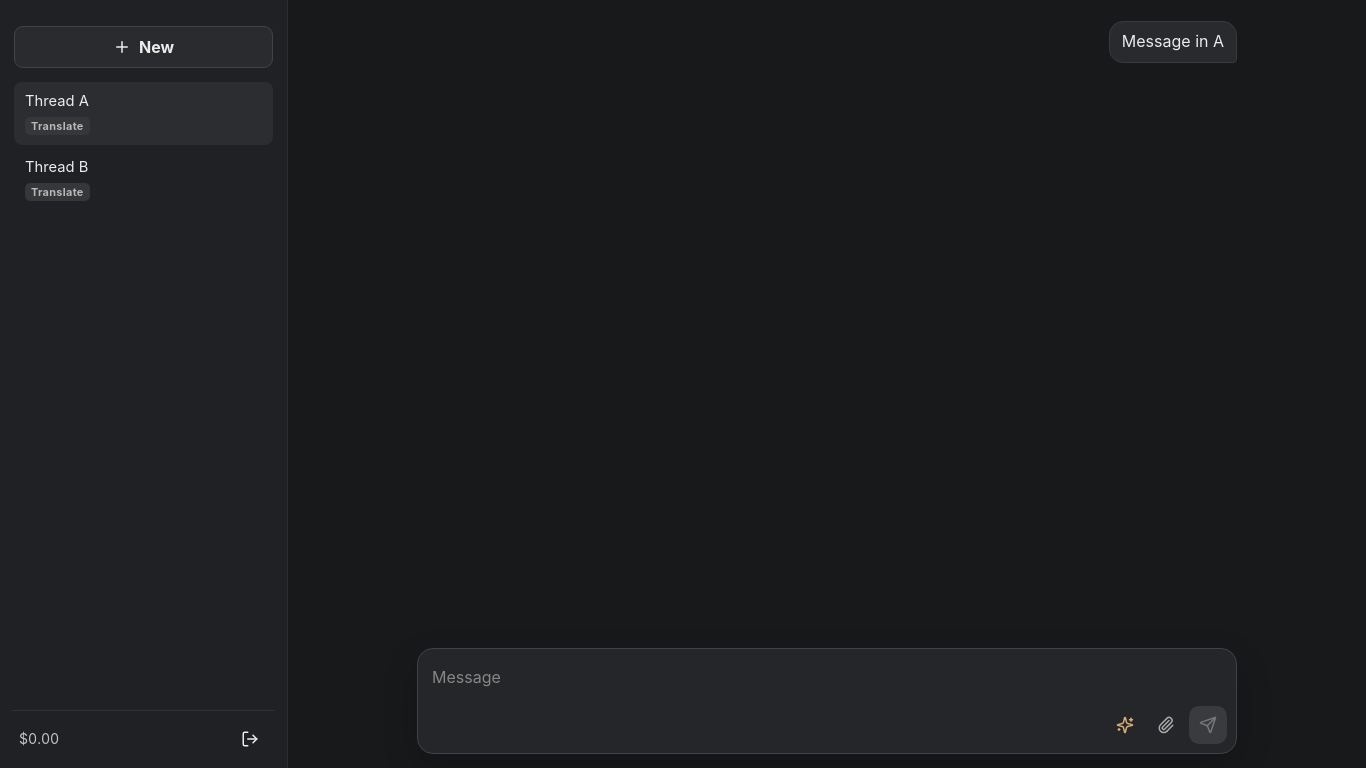
Test case: L-1 / F-2, F-9: responses cannot land on the wrong conversation › leaves the user where they are when a send finishes after they moved on
Check: the text "Message in A" is shown, box [1109,21,1237,63]
Type "For A" into the text box labelled "Message" at (764, 701), box [430,658,1099,744]
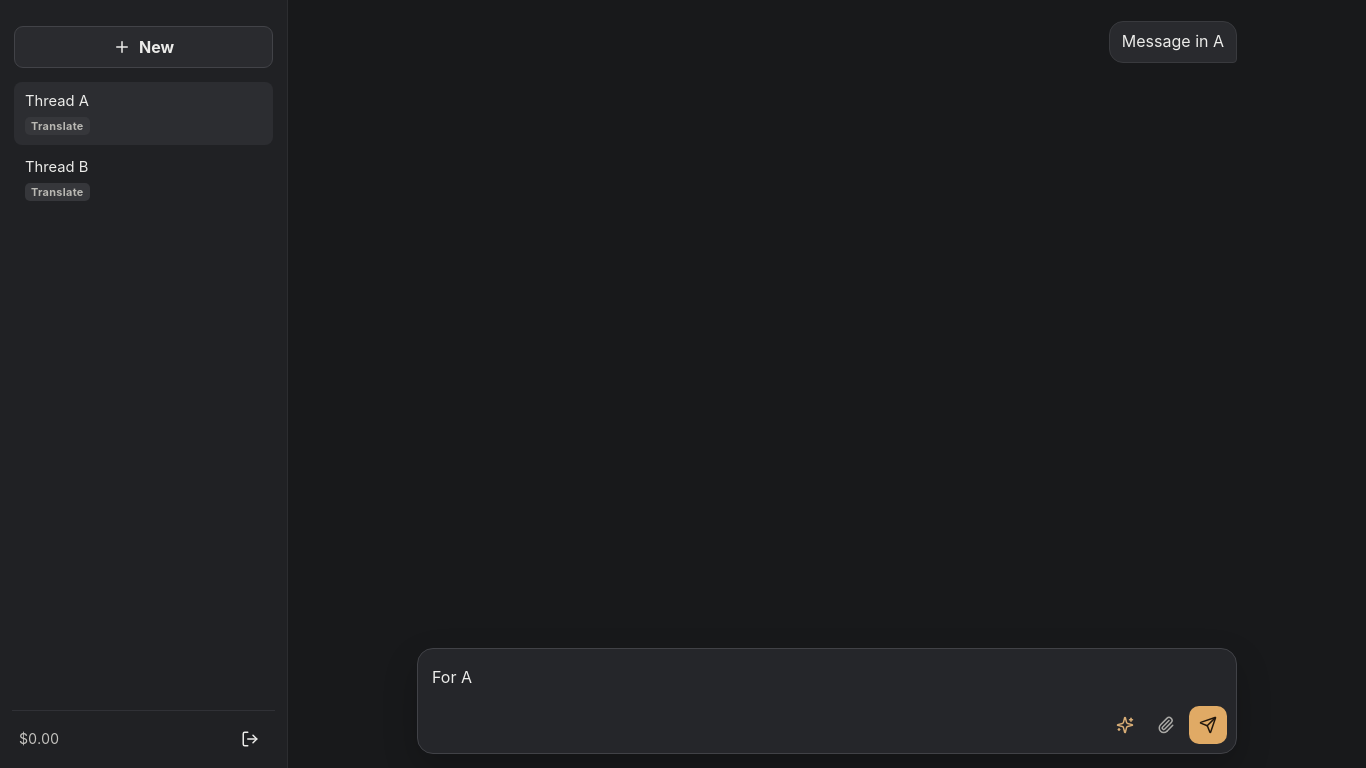
Click the button named "Send message" at (1208, 725), box [1189,706,1227,744]
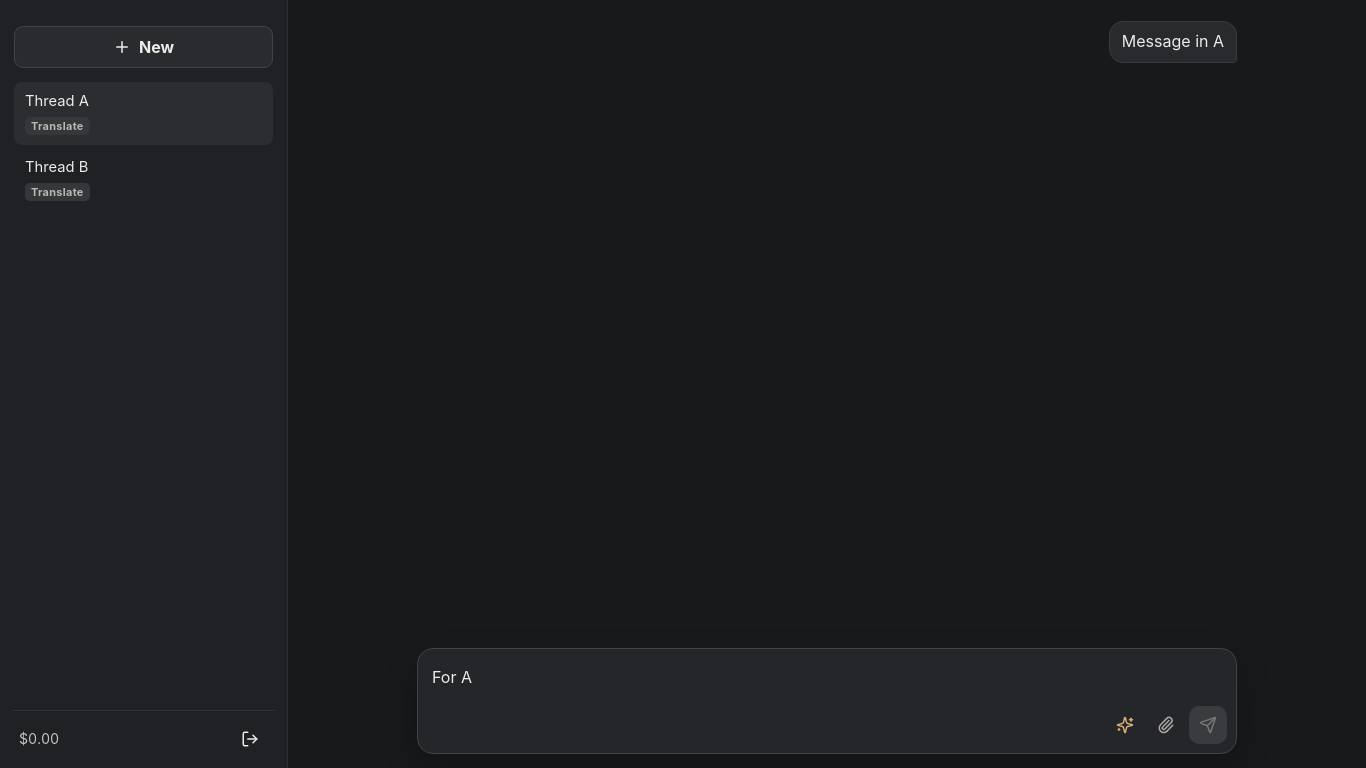
Click the button "Thread B Translate" at (144, 180), box [14,148,273,211]
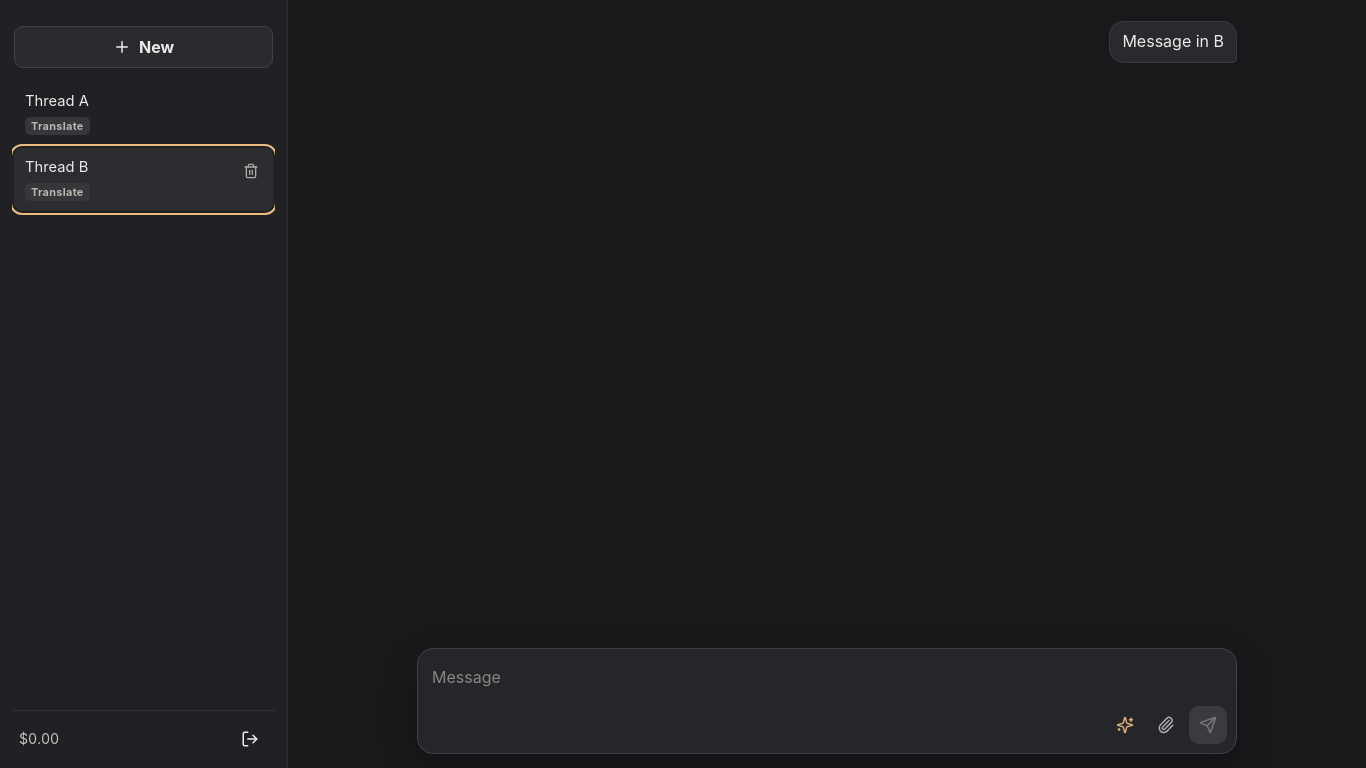
Check: the text "Message in B" is shown, box [1109,21,1237,63]
Click the button "Thread A Translate" at (144, 114), box [14,82,273,145]
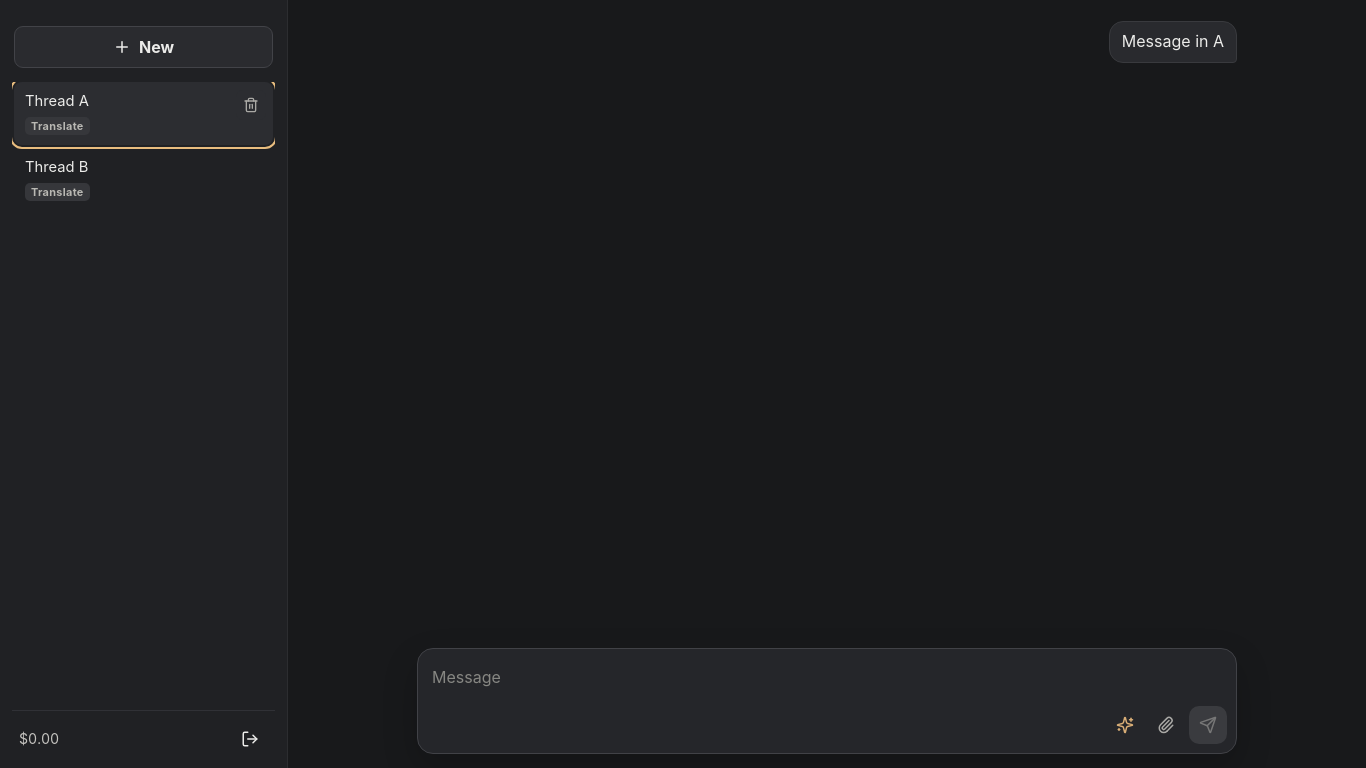
Check: the text box labelled "Message" is empty, box [430,658,1099,744]
Check: the text "Message in A" is shown, box [1109,21,1237,63]
